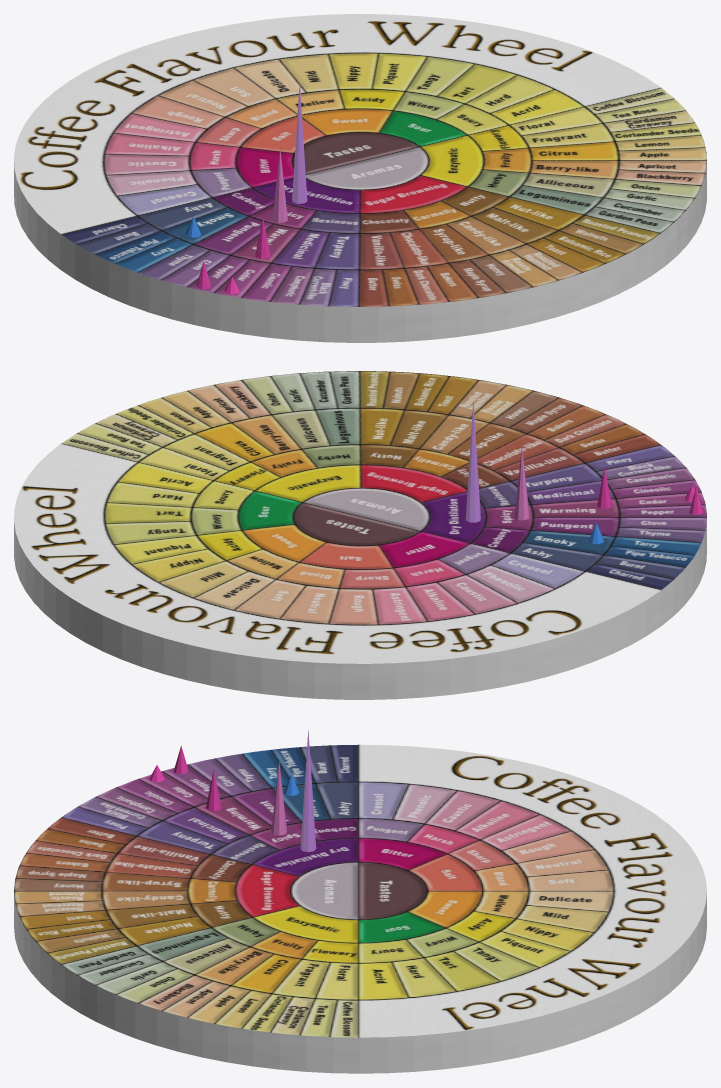
Rendered from wheel.gltf.
3 renders of one model, top to bottom at view 1: azimuth 30°, elevation 25°; view 2: azimuth 150°, elevation 25°; view 3: azimuth 270°, elevation 25°, orthographic.
Parts seen in each view (by area): view 1: Cylinder, Cone, Cone.001; view 2: Cylinder, Cone, Cone.001; view 3: Cylinder, Cone, Cone.001.
Boxes of the visible parts, x1,y1,x2,y2 form: Cylinder: (14,14,706,342); Cone: (292,81,307,203); Cone.001: (272,148,287,222); Cylinder: (14,371,706,699); Cone: (465,401,480,522); Cone.001: (514,446,529,520); Cylinder: (14,744,706,1073); Cone: (300,730,316,852); Cone.001: (271,761,286,835).
Bounding box in the file's own units: 17.42 × 4.34 × 17.42.
5 materials, 1 textured.
